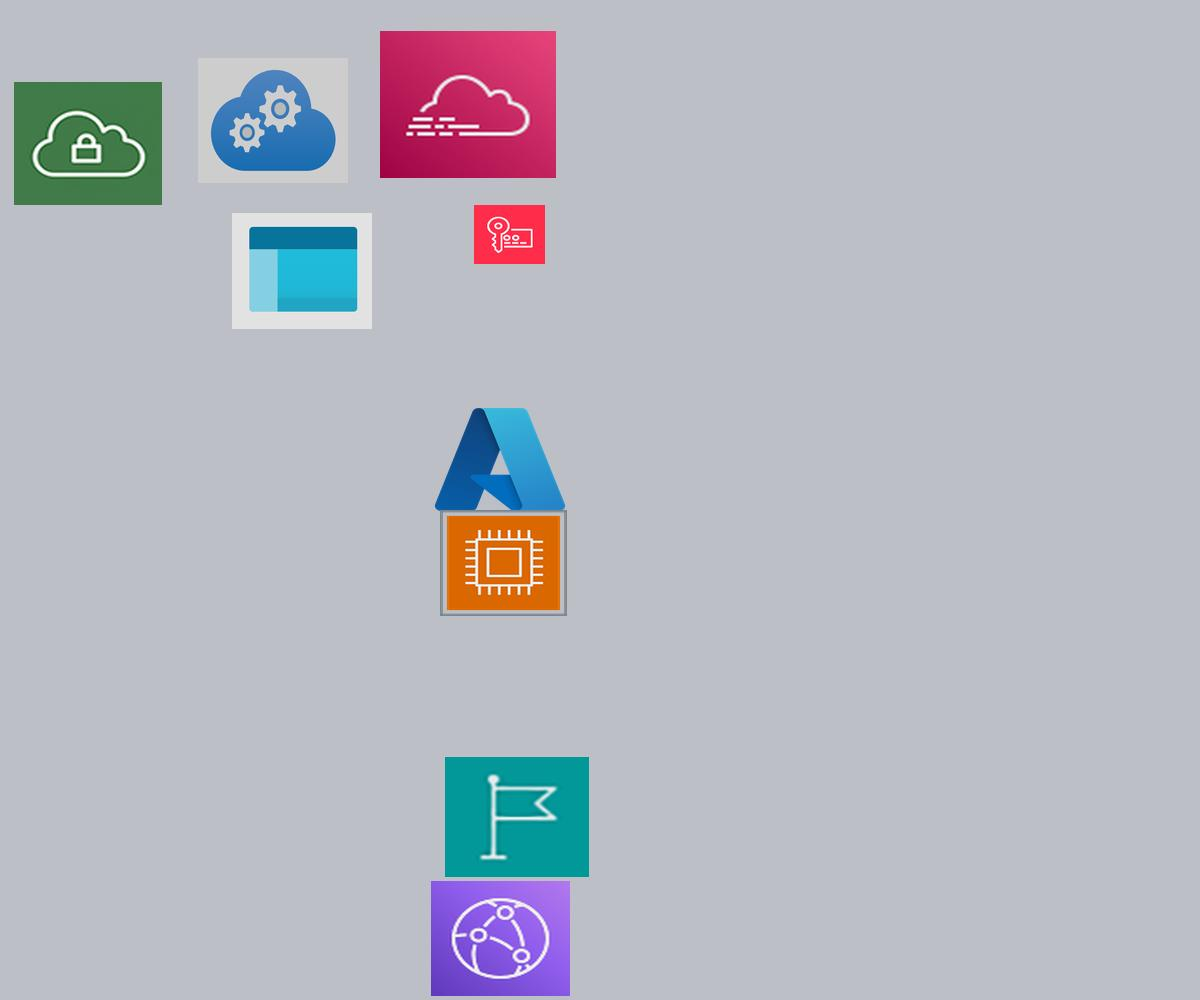AWS-Category_Compute: (440, 510, 567, 616)
AWS-CloudFront: (431, 881, 570, 996)
AWS-CloudTrail: (380, 31, 556, 178)
AWS-Key-Management-Service: (474, 205, 545, 264)
AWS-Private_vpc: (14, 82, 162, 205)
AWS-Region: (445, 757, 589, 877)
Azure_cloud_services: (198, 58, 348, 183)
Azure_management-portal: (232, 213, 372, 329)
Azure_services: (429, 400, 571, 519)
